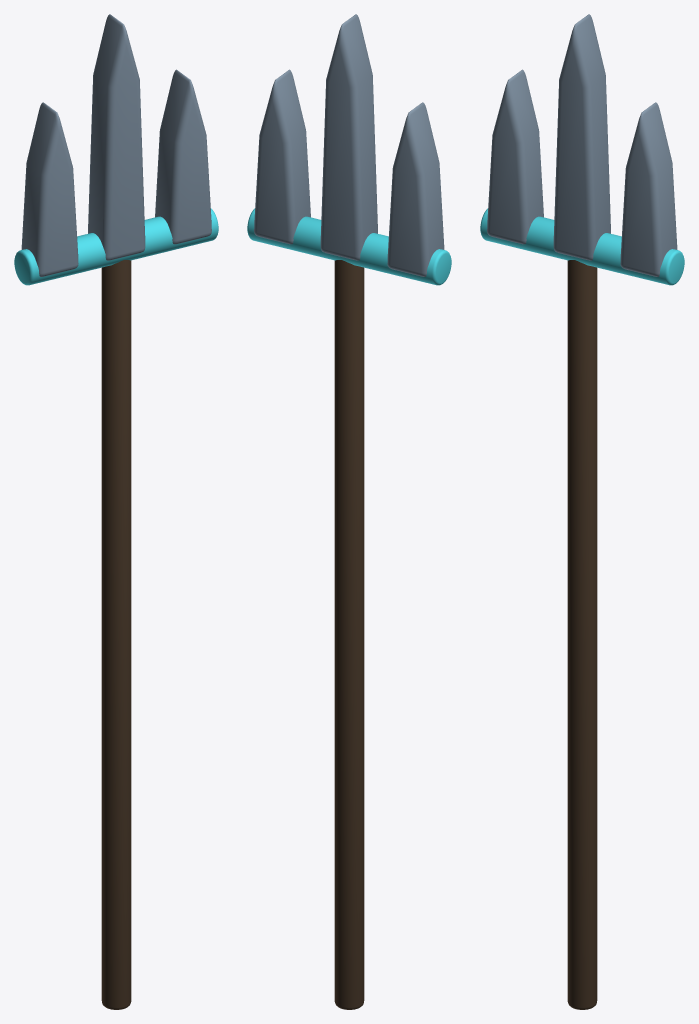
Rendered from spear_v2.glb.
3 renders of one model, left to right at view 1: azimuth 30°, elevation 25°; view 2: azimuth 150°, elevation 25°; view 3: azimuth 330°, elevation 25°, orthographic.
Parts seen in each view (by area): view 1: SHAFT_SECONDARY, TRIDENT_TINE_PRIMARY.001, TRIDENT_TINE_PRIMARY.002, TRIDENT_TINE_PRIMARY, TRIDENT_BAR_ACCENT; view 2: SHAFT_SECONDARY, TRIDENT_TINE_PRIMARY.001, TRIDENT_TINE_PRIMARY.002, TRIDENT_TINE_PRIMARY, TRIDENT_BAR_ACCENT; view 3: SHAFT_SECONDARY, TRIDENT_TINE_PRIMARY.001, TRIDENT_TINE_PRIMARY, TRIDENT_TINE_PRIMARY.002, TRIDENT_BAR_ACCENT.
Boxes of the visible parts, x1,y1,x2,y2 form: SHAFT_SECONDARY: [101, 260, 131, 1009]; TRIDENT_TINE_PRIMARY.001: [88, 14, 145, 260]; TRIDENT_TINE_PRIMARY.002: [155, 69, 211, 244]; TRIDENT_TINE_PRIMARY: [21, 102, 78, 276]; TRIDENT_BAR_ACCENT: [14, 208, 218, 285]; SHAFT_SECONDARY: [334, 260, 364, 1009]; TRIDENT_TINE_PRIMARY.001: [320, 14, 377, 260]; TRIDENT_TINE_PRIMARY.002: [254, 69, 310, 244]; TRIDENT_TINE_PRIMARY: [387, 102, 444, 276]; TRIDENT_BAR_ACCENT: [247, 208, 451, 285]; SHAFT_SECONDARY: [567, 260, 597, 1009]; TRIDENT_TINE_PRIMARY.001: [553, 14, 610, 260]; TRIDENT_TINE_PRIMARY: [487, 69, 543, 244]; TRIDENT_TINE_PRIMARY.002: [620, 102, 677, 276]; TRIDENT_BAR_ACCENT: [480, 208, 684, 285].
Size of the model in its own units: 0.96 by 4.8 by 0.18.
